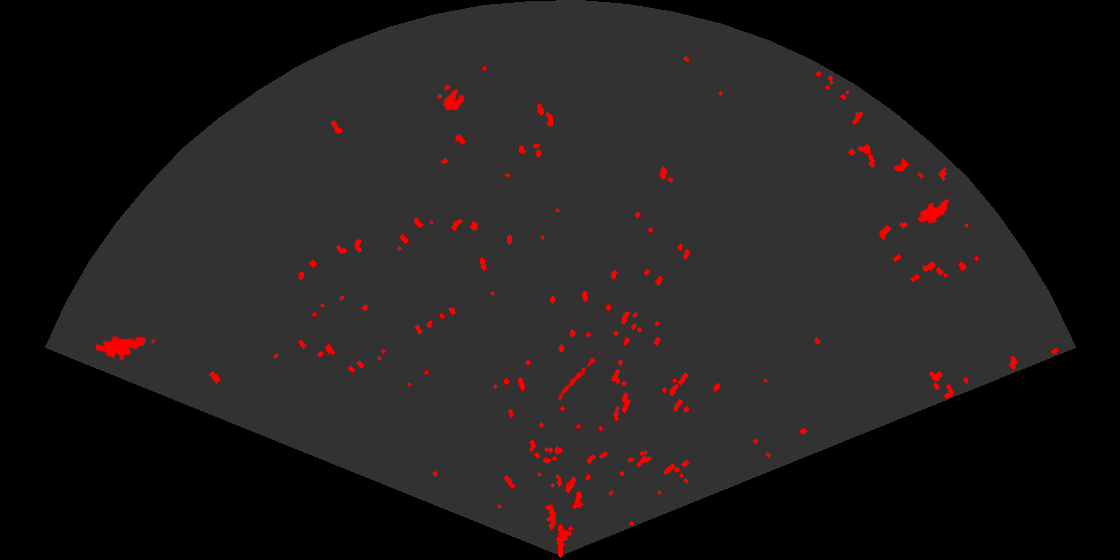AUV: (916, 197, 951, 225)
ball: (436, 83, 466, 112)
chain: (554, 350, 600, 403)
frogman: (96, 334, 157, 362)
